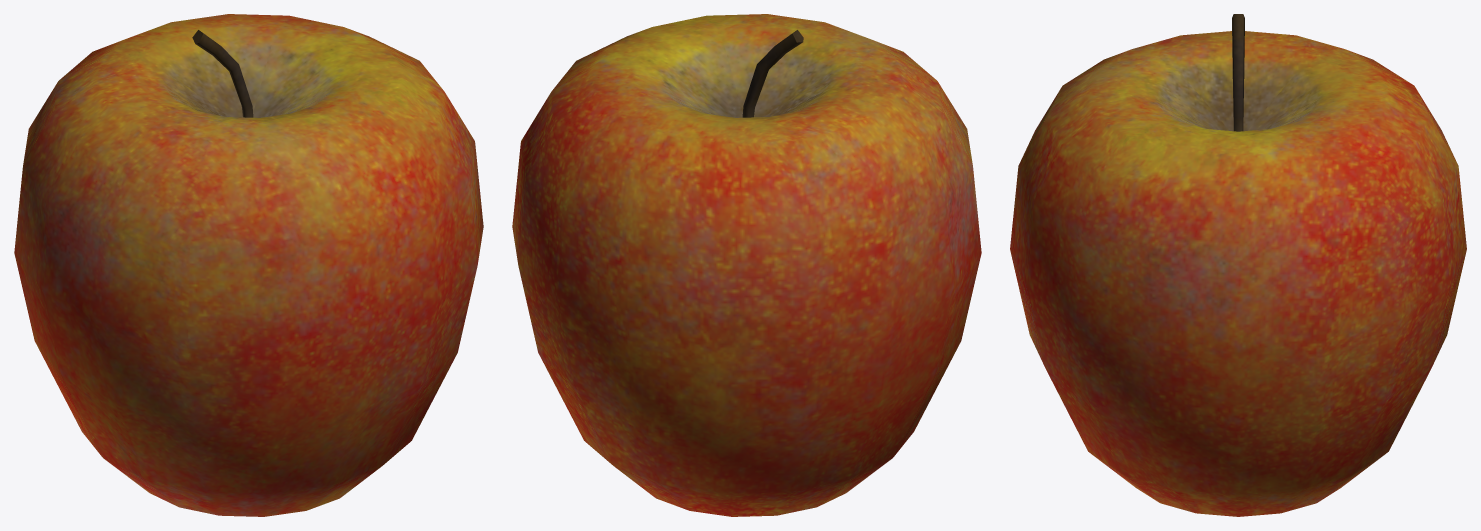
Rendered from CAMP_apple.fbx.
3 renders of one model, left to right at view 1: azimuth 30°, elevation 25°; view 2: azimuth 150°, elevation 25°; view 3: azimuth 270°, elevation 25°, orthographic. The views are drawn at different scales.
Parts seen in each view (by area): view 1: CAMP_apple; view 2: CAMP_apple; view 3: CAMP_apple.
Boxes of the visible parts, box(x1,y1,x2,y2) form: CAMP_apple: box(14, 14, 483, 516); CAMP_apple: box(512, 14, 981, 516); CAMP_apple: box(1010, 14, 1466, 516).
Size of the model in its own units: 7.87 by 8.44 by 7.87.
